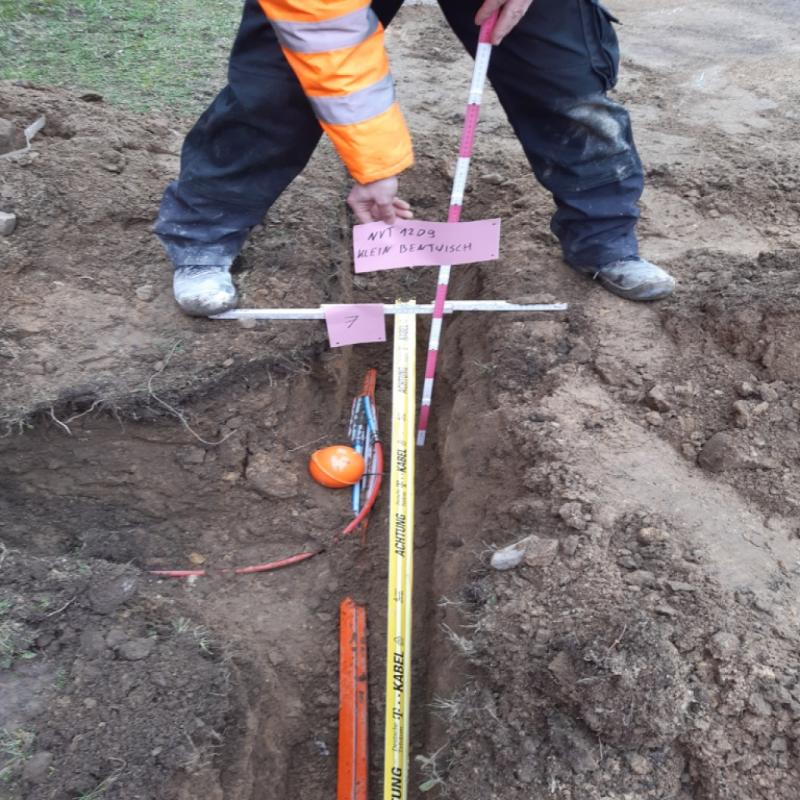Kugelmarker: (310, 446, 366, 487)
Orang-Speednetrohrchen: (337, 600, 366, 798), (349, 370, 382, 472)
